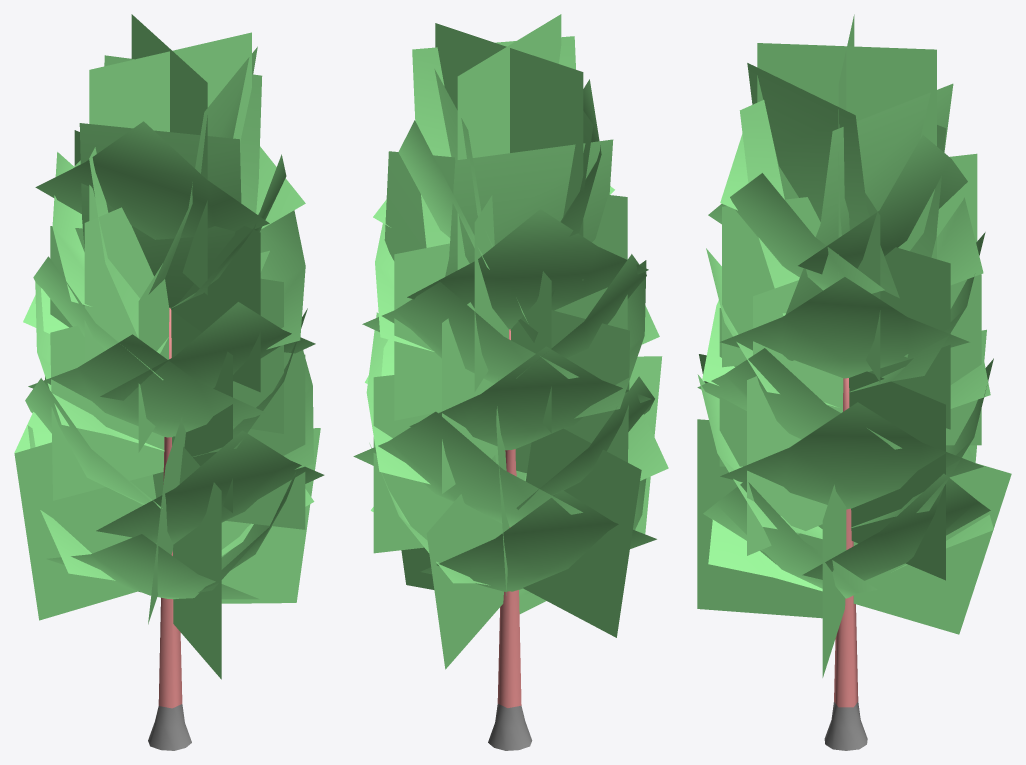
File: Oren_elf_tree01.gltf
3 renders of one model, left to right at view 1: azimuth 30°, elevation 25°; view 2: azimuth 150°, elevation 25°; view 3: azimuth 270°, elevation 25°, orthographic.
Parts seen in each view (by area): view 1: Oren_elf_tree01; view 2: Oren_elf_tree01; view 3: Oren_elf_tree01.
Boxes of the visible parts, box(x1,y1,x2,y2) form: Oren_elf_tree01: box(14, 14, 324, 750); Oren_elf_tree01: box(353, 14, 668, 750); Oren_elf_tree01: box(697, 14, 1011, 750).
Size of the model in its own units: 4.06 by 9.52 by 3.9.
